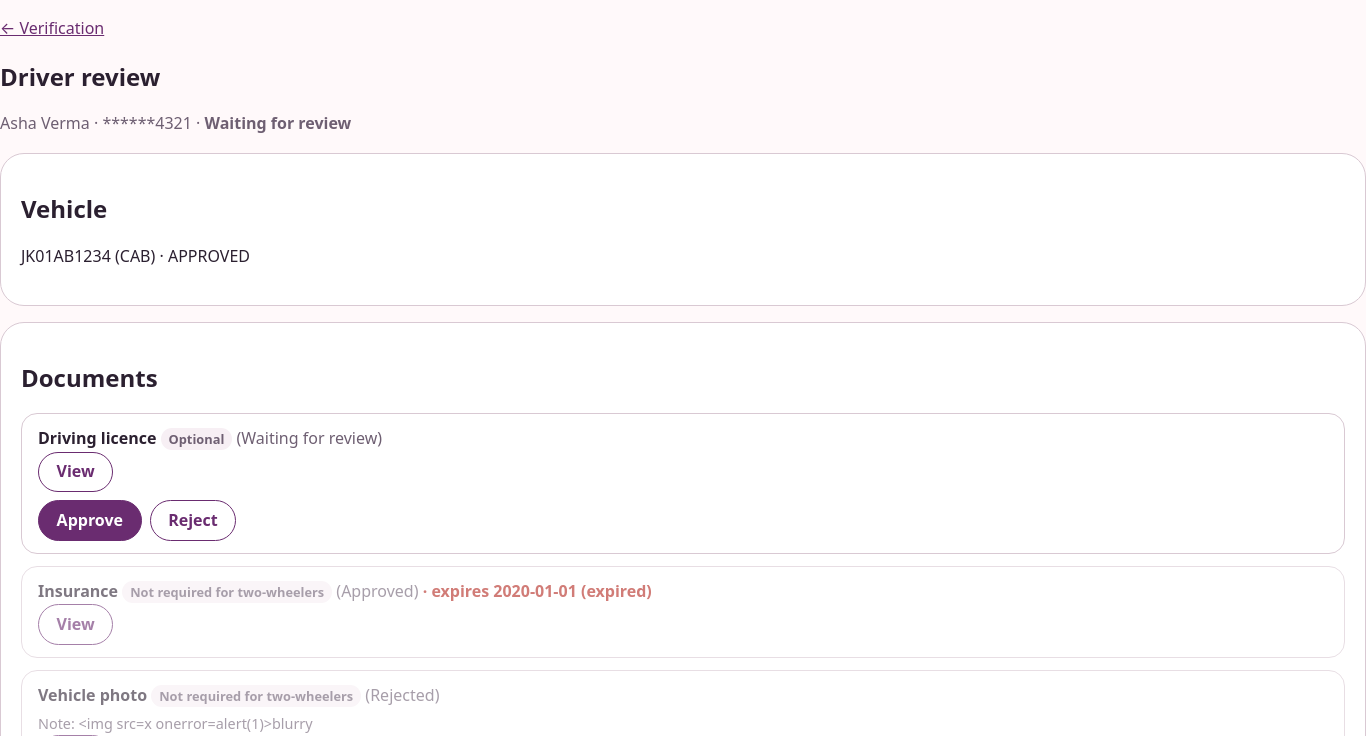
Test: DriverReview › when the server rejects a review action › does not send a blank rejection reason and says why
The width and height of the screenshot is (1366, 736).
Click the button "Reject": x=193, y=520 [150,500,236,541]
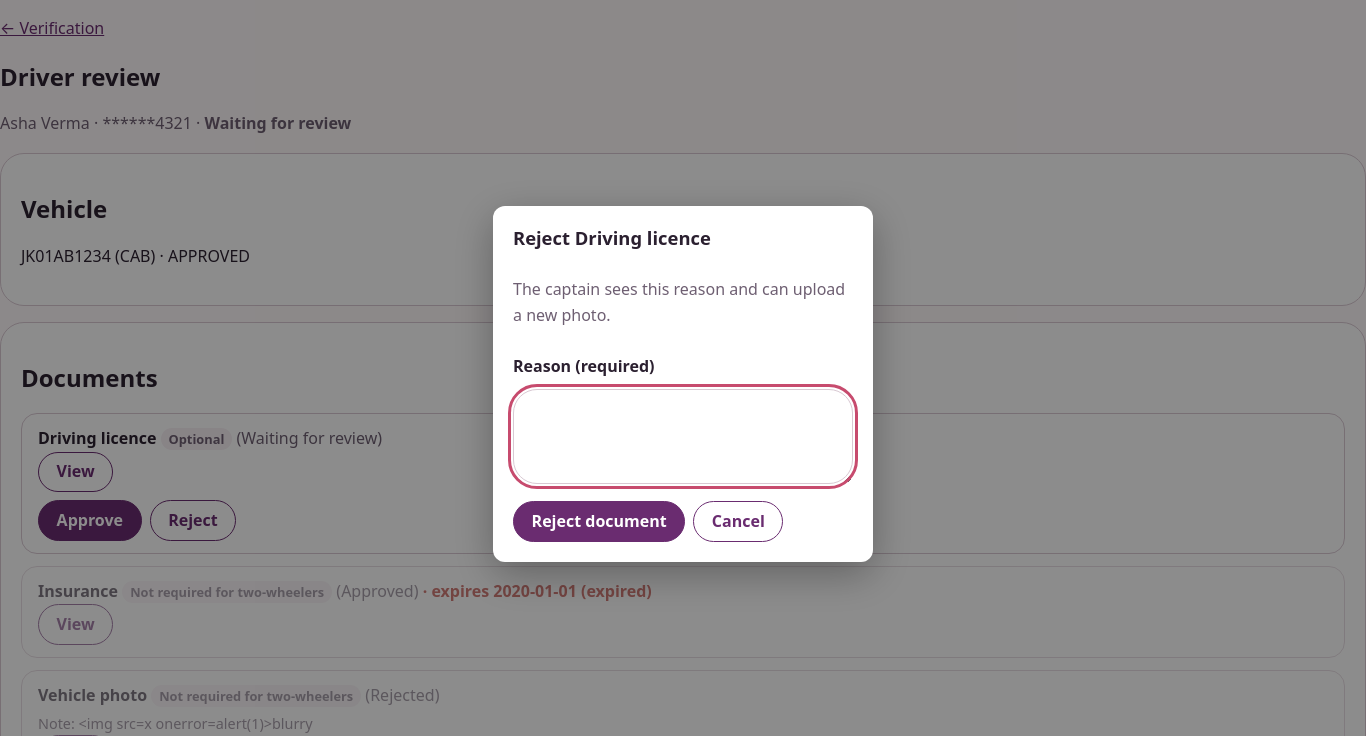
Click the button "Reject document": x=599, y=522 [513,502,685,542]
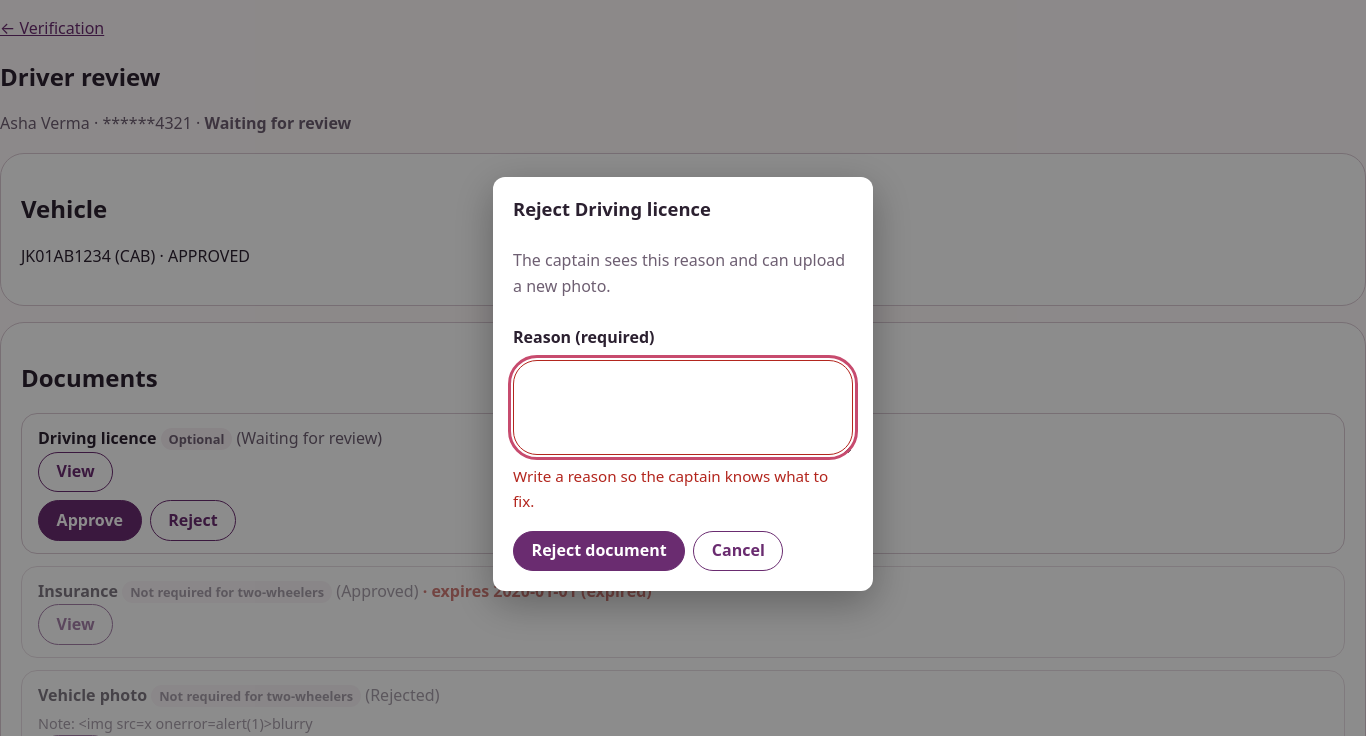
Now the text "Write a reason so the captain knows what to fix." is shown, box [513,464,853,513]
